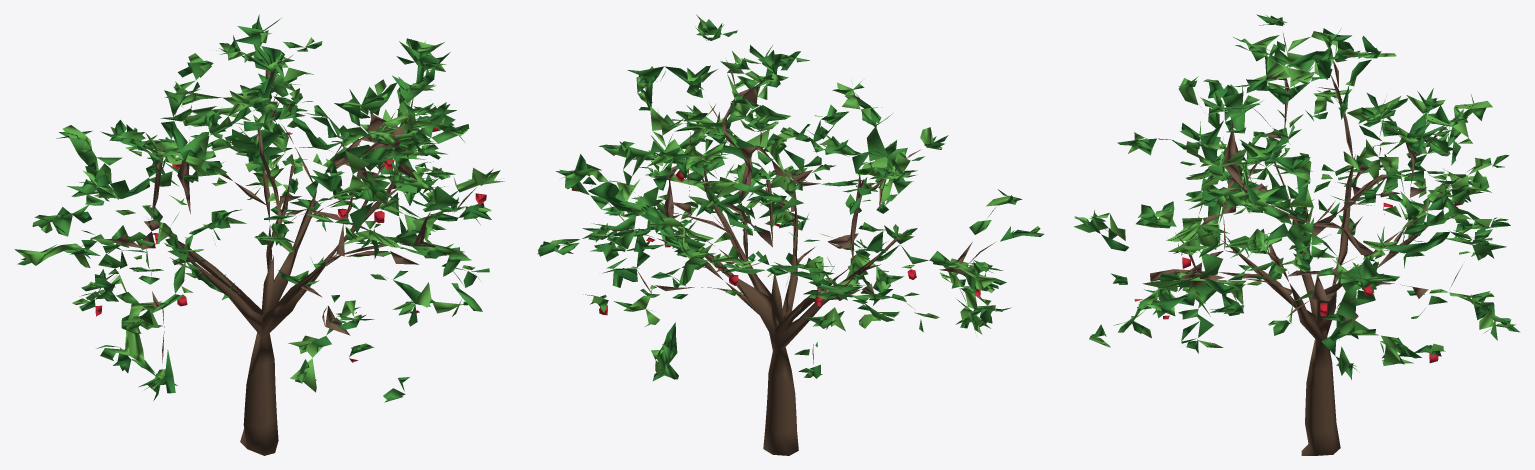
The picture shows the model from 3 angles, left to right: view 1: azimuth 30°, elevation 25°; view 2: azimuth 150°, elevation 25°; view 3: azimuth 270°, elevation 25°; orthographic projection. The views are drawn at different scales.
Visible parts, largest first — view 1: body; view 2: body; view 3: body.
Part boxes in pixels (x1,y1,x2,y2): body: [14, 14, 504, 455]; body: [537, 14, 1044, 455]; body: [1074, 14, 1520, 455].
Size of the model in its own units: 4.53 by 3.82 by 3.68.
Materials: 1 (1 with a texture image).
